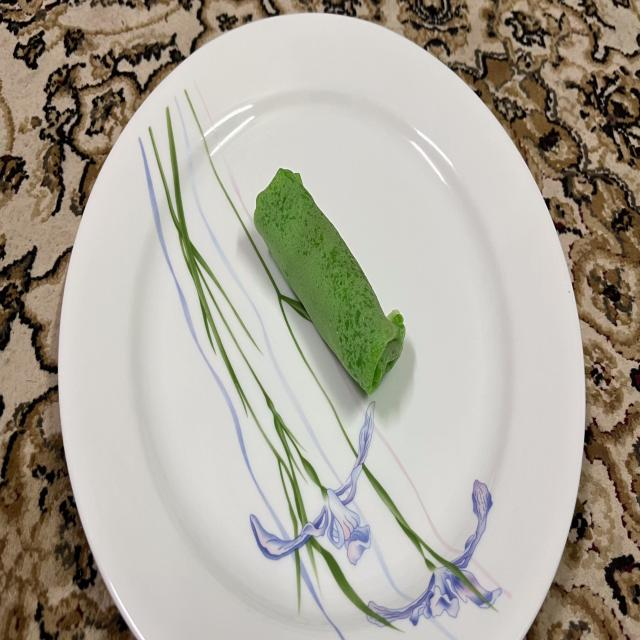Kuih-Ketayap: (254, 169, 405, 393)
